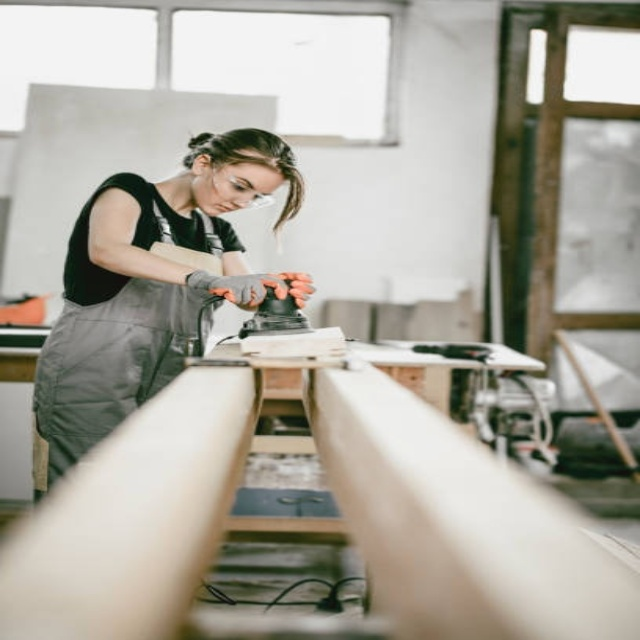Gafas: (218, 162, 280, 210)
Guantes: (187, 269, 287, 308), (273, 270, 318, 312)
Sin_mascara: (201, 197, 235, 218)
